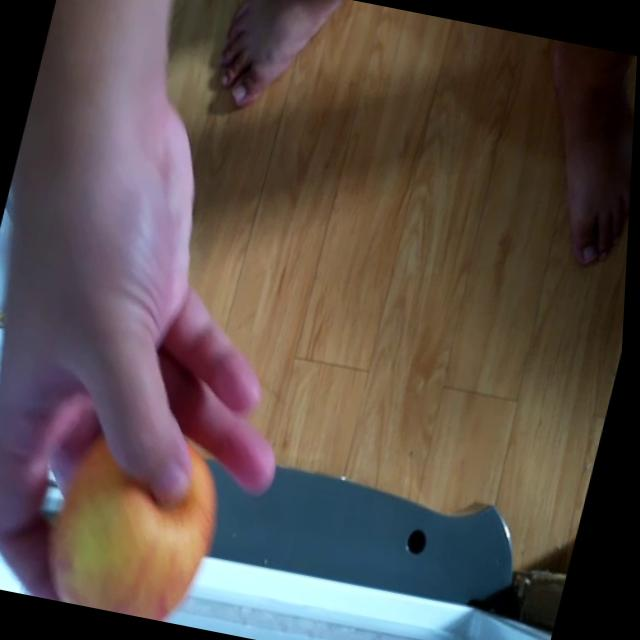apple: (34, 412, 243, 628)
